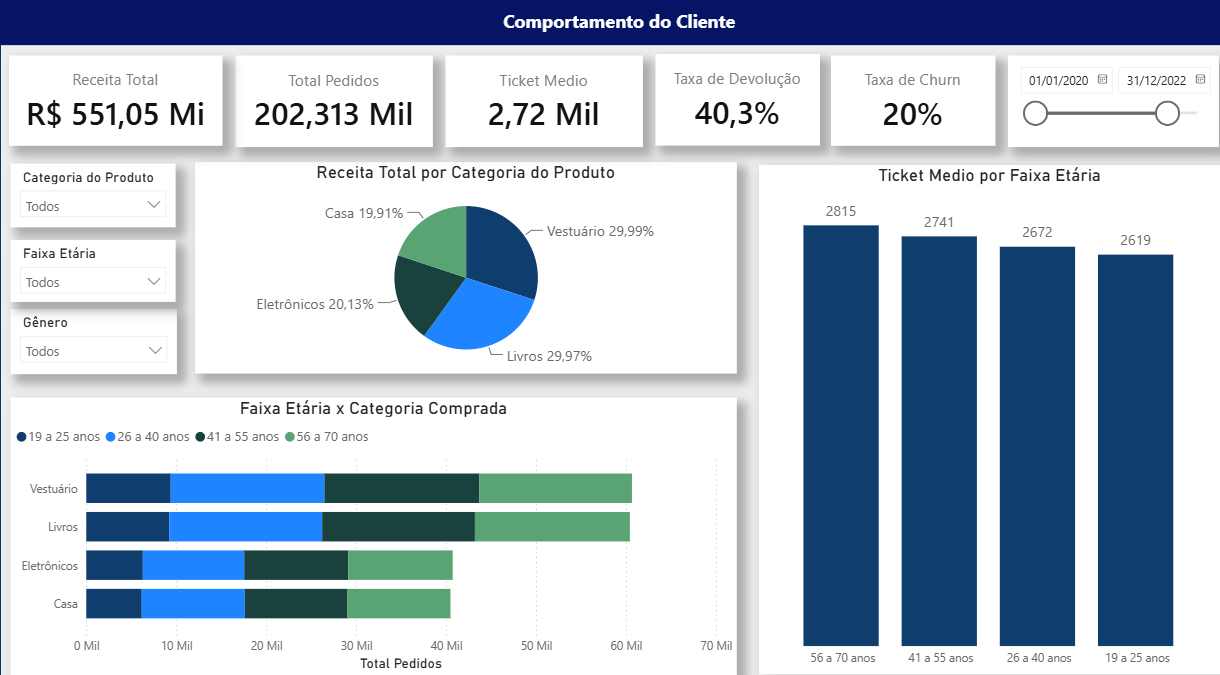

This screenshot's page, from the dashboard's own definition file:
{"tool":"powerbi","page":{"name":"Comportamento do Cliente","canvas":[1280,720],"ordinal":1},"visuals":[{"type":"shape","box":[0,0,1280.3,720.7],"z":0},{"type":"cardVisual","fields":{"Data":["01 - medidas.Total Pedidos"]},"box":[243.5,56.6,203.9,94.9],"z":1000,"group":"g1"},{"type":"barChart","title":"Faixa Etária x Categoria Comprada","fields":{"Category":["02 - Base Tratada.Categoria do Produto"],"Series":["02 - Base Tratada.Faixa Etária"],"Y":["01 - Medida.Total Pedidos"]},"box":[10.5,411,750.8,287.1],"z":1000},{"type":"cardVisual","fields":{"Data":["01 - medidas.Receita Total"]},"box":[9.9,56.6,220.9,93.5],"z":2000,"group":"g1"},{"type":"columnChart","fields":{"Y":["01 - Medida.Ticket Medio"],"Category":["02 - Base Tratada.Faixa Etária"]},"box":[783.7,171.2,476.8,526.9],"z":2000},{"type":"textbox","title":" Performance de Vendas e Comportamento do Cliente","box":[0,0,1280,46.7],"z":3000,"group":"g1"},{"type":"pieChart","fields":{"Y":["01 - Medida.Receita Total"],"Category":["02 - Base Tratada.Categoria do Produto","02 - Base Tratada.Quantidade de Produto"]},"box":[201.5,167.3,559.8,218.6],"z":4000},{"type":"group","id":"g1","title":"Grupo 1","box":[0,0,1280,151.5],"z":5000},{"type":"slicer","fields":{"Values":["02 - Base Tratada.Categoria do Produto"]},"box":[10.1,168.9,170.6,65.9],"z":6000},{"type":"cardVisual","fields":{"Data":["01 - medidas.Ticket Medio"]},"box":[460.2,56.6,203.9,94.9],"z":7000,"group":"g1"},{"type":"slicer","fields":{"Values":["02 - Base Tratada.Gênero"]},"box":[10.1,319.2,172.2,67.5],"z":7000},{"type":"cardVisual","fields":{"Data":["01 - Medida.Taxa de Devolução"]},"box":[676.8,55.2,169.9,94.9],"z":8000,"group":"g1"},{"type":"slicer","fields":{"Values":["02 - Base Tratada.Faixa Etária"]},"box":[10.1,248.2,170.6,64.2],"z":8000},{"type":"cardVisual","fields":{"Data":["01 - Medida.Taxa de Churn"]},"box":[859.5,56.6,169.9,93.5],"z":9000,"group":"g1"},{"type":"slicer","title":"Ano","fields":{"Values":["02 - Base Tratada.Data da Compra"]},"box":[1042.1,56.6,218.1,94.9],"z":11000,"group":"g1"}]}

Visuals, with their boxes in screenshot pixels (x1, y1, x2, y2), scaled from the page's 1280x720 canvas onto the 1220x675 screenshot:
shape: detection(0, 0, 1219, 674)
cardVisual - 01 - medidas.Total Pedidos: detection(232, 53, 426, 142)
"Faixa Etária x Categoria Comprada" barChart: detection(10, 385, 726, 654)
cardVisual - 01 - medidas.Receita Total: detection(9, 53, 220, 141)
columnChart - 01 - Medida.Ticket Medio x 02 - Base Tratada.Faixa Etária: detection(747, 160, 1201, 654)
" Performance de Vendas e Comportamento do Cliente" textbox: detection(0, 0, 1219, 44)
pieChart - 01 - Medida.Receita Total x 02 - Base Tratada.Categoria do Produto: detection(192, 157, 726, 362)
"Grupo 1" group: detection(0, 0, 1219, 142)
slicer - 02 - Base Tratada.Categoria do Produto: detection(10, 158, 172, 220)
cardVisual - 01 - medidas.Ticket Medio: detection(439, 53, 633, 142)
slicer - 02 - Base Tratada.Gênero: detection(10, 299, 174, 363)
cardVisual - 01 - Medida.Taxa de Devolução: detection(645, 52, 807, 141)
slicer - 02 - Base Tratada.Faixa Etária: detection(10, 233, 172, 293)
cardVisual - 01 - Medida.Taxa de Churn: detection(819, 53, 981, 141)
"Ano" slicer: detection(993, 53, 1201, 142)
